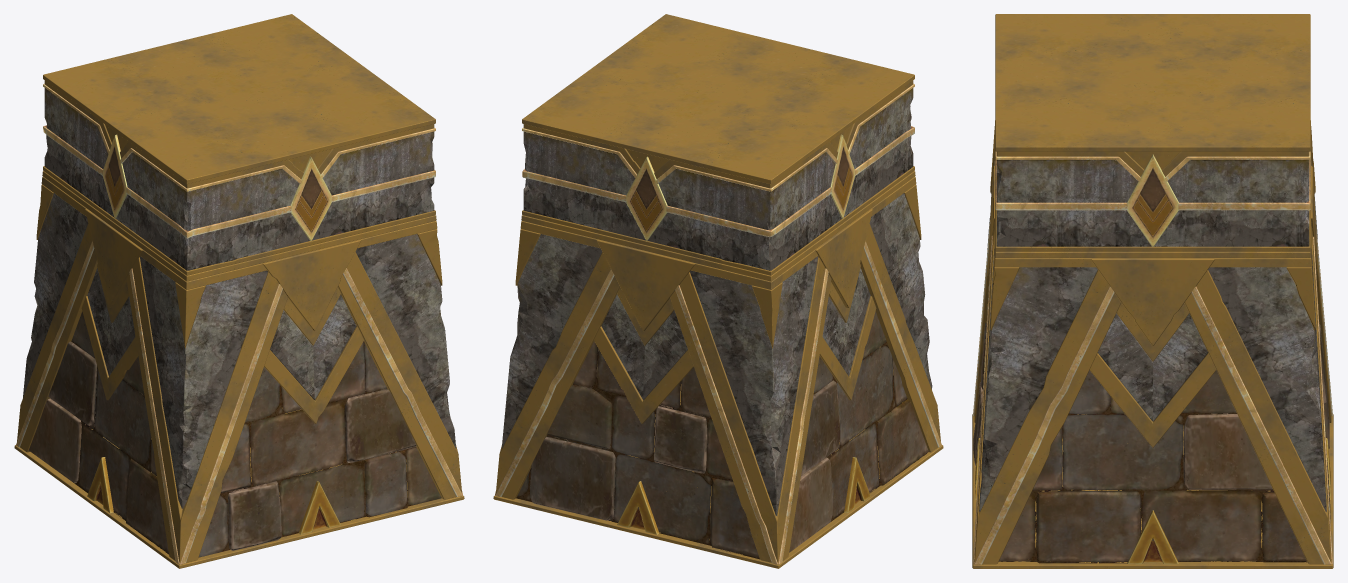
3 renders of one model, left to right at view 1: azimuth 30°, elevation 25°; view 2: azimuth 150°, elevation 25°; view 3: azimuth 270°, elevation 25°, orthographic. The views are drawn at different scales.
Parts seen in each view (by area): view 1: SM_DK_20m_TowerMid_01_LOD0; view 2: SM_DK_20m_TowerMid_01_LOD0; view 3: SM_DK_20m_TowerMid_01_LOD0.
Part boxes in pixels (box(x1,y1,x2,y2)): SM_DK_20m_TowerMid_01_LOD0: box(14, 14, 464, 568); SM_DK_20m_TowerMid_01_LOD0: box(493, 14, 943, 568); SM_DK_20m_TowerMid_01_LOD0: box(972, 14, 1333, 568).
Size of the model in its own units: 6.41 by 8.09 by 6.41.
5 materials, 5 textured.
